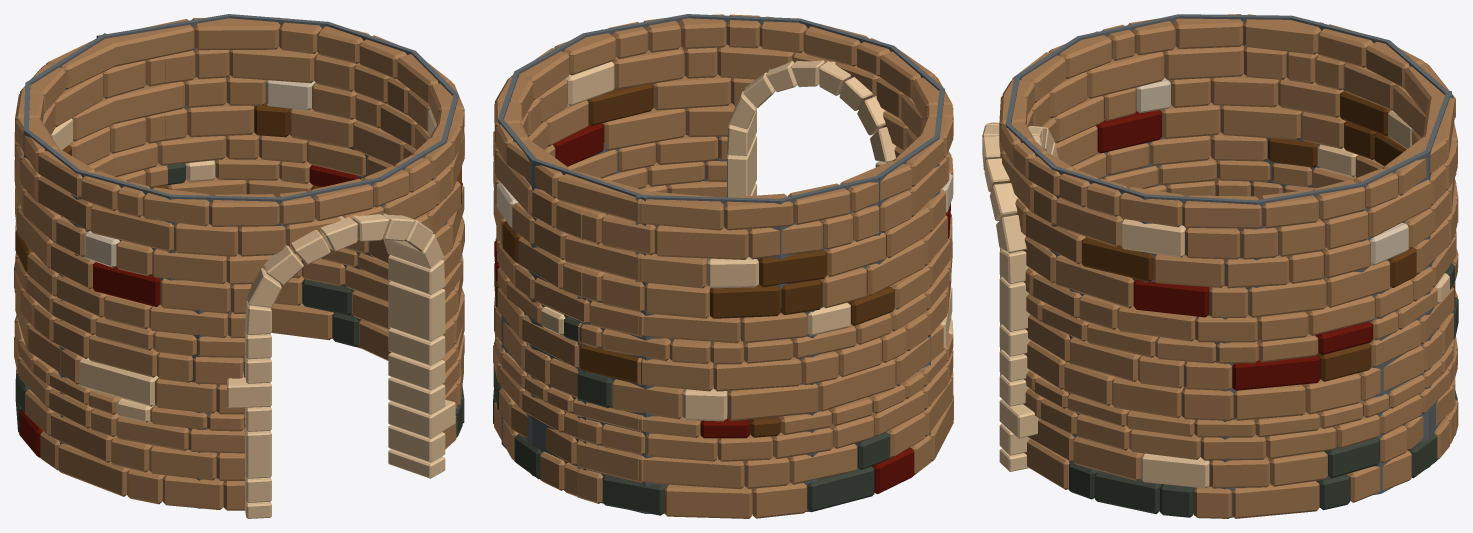
File: base-section-with-doorway.glb
3 views of the same model, side by side, from view 1: azimuth 30°, elevation 25°; view 2: azimuth 150°, elevation 25°; view 3: azimuth 270°, elevation 25° (orthographic). The views are drawn at different scales.
Parts seen in each view (by area): view 1: main-wall.285, doorframe, grout-wall; view 2: main-wall.285, grout-wall, doorframe; view 3: main-wall.285, doorframe, grout-wall.
Part boxes in pixels (x1,y1,x2,y2): main-wall.285: (14,17,464,510); doorframe: (227,213,455,518); grout-wall: (23,14,458,508); main-wall.285: (493,14,953,518); grout-wall: (498,14,944,513); doorframe: (727,60,895,197); main-wall.285: (999,14,1458,518); doorframe: (982,122,1058,471); grout-wall: (1005,14,1453,517).
Bounding box in the file's own units: 2.9 × 2.19 × 2.99.
